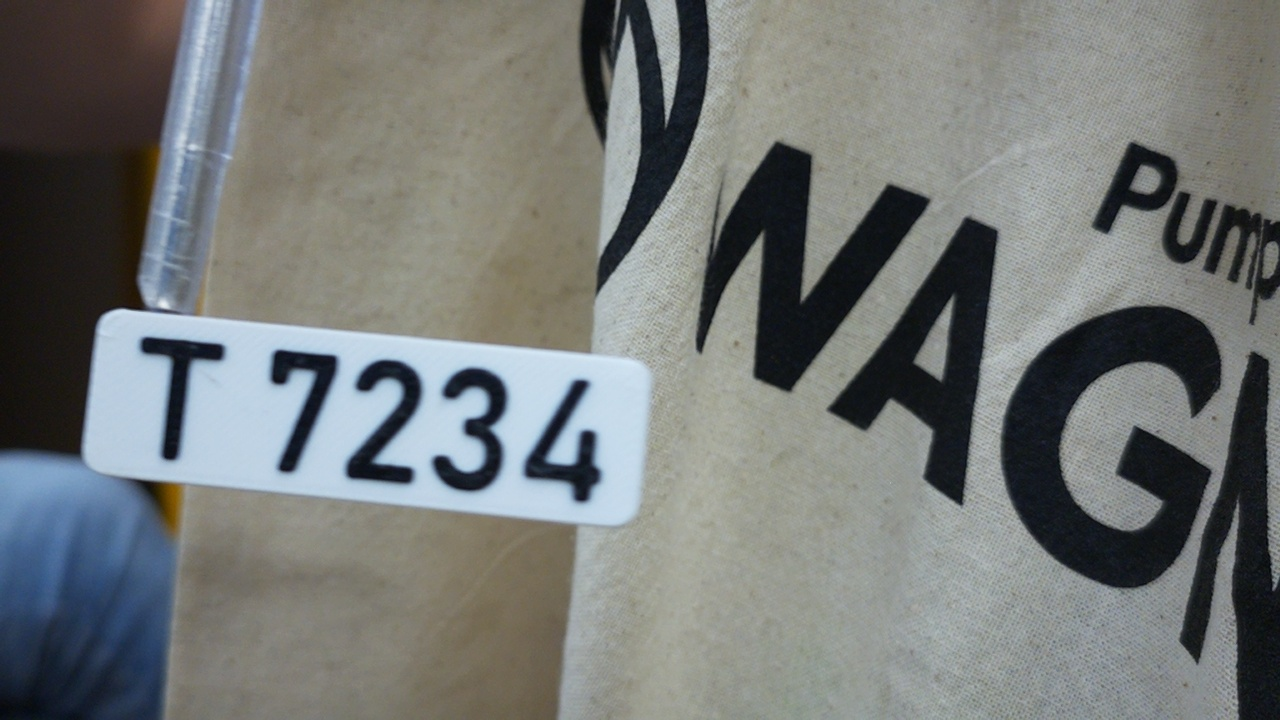license_plate: (77, 302, 655, 530)
